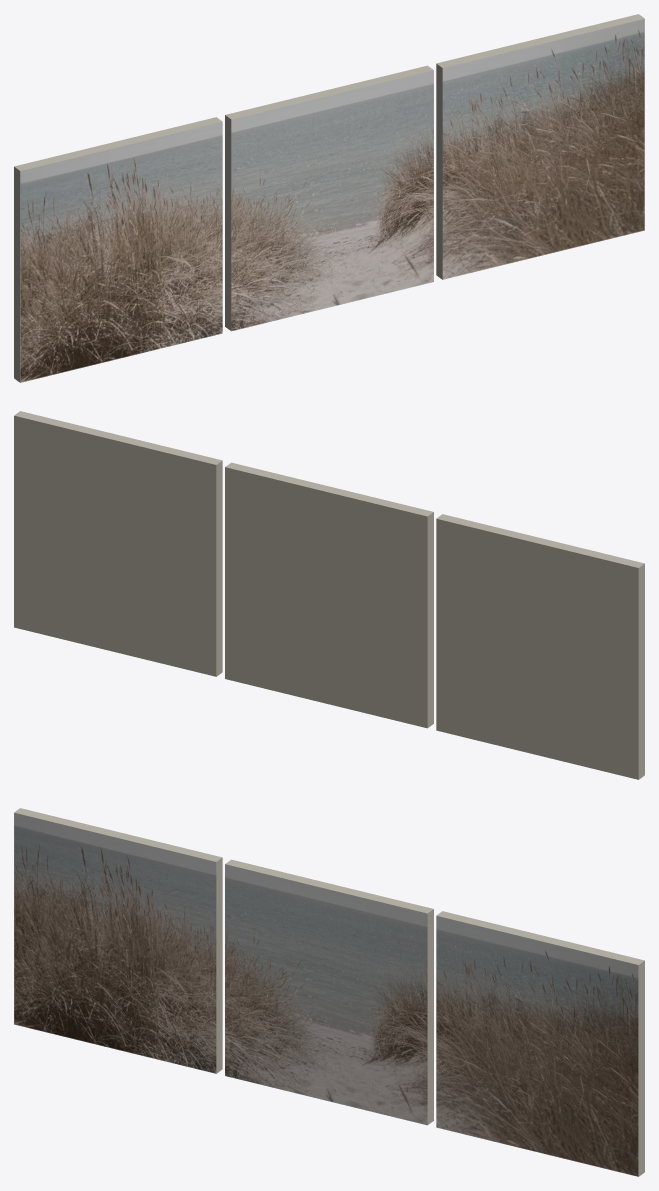
Rendered from three_picture_frames.glb.
The picture shows the model from 3 angles, top to bottom: view 1: azimuth 30°, elevation 25°; view 2: azimuth 150°, elevation 25°; view 3: azimuth 330°, elevation 25°; orthographic projection.
Visible parts, largest first — view 1: Panel_1_Left, Panel_3_Right, Panel_2_Center; view 2: Panel_1_Left, Panel_3_Right, Panel_2_Center; view 3: Panel_1_Left, Panel_3_Right, Panel_2_Center.
Boxes of the visible parts, x1=… form: Panel_1_Left: x1=14, y1=117, x2=222, y2=382; Panel_3_Right: x1=436, y1=14, x2=644, y2=279; Panel_2_Center: x1=225, y1=65, x2=433, y2=331; Panel_1_Left: x1=436, y1=514, x2=644, y2=779; Panel_3_Right: x1=14, y1=411, x2=222, y2=676; Panel_2_Center: x1=225, y1=462, x2=433, y2=728; Panel_1_Left: x1=14, y1=808, x2=222, y2=1073; Panel_3_Right: x1=436, y1=911, x2=644, y2=1176; Panel_2_Center: x1=225, y1=859, x2=433, y2=1125.
Bounding box in the file's own units: 1.73 × 0.56 × 0.03.
4 materials, 3 textured.
